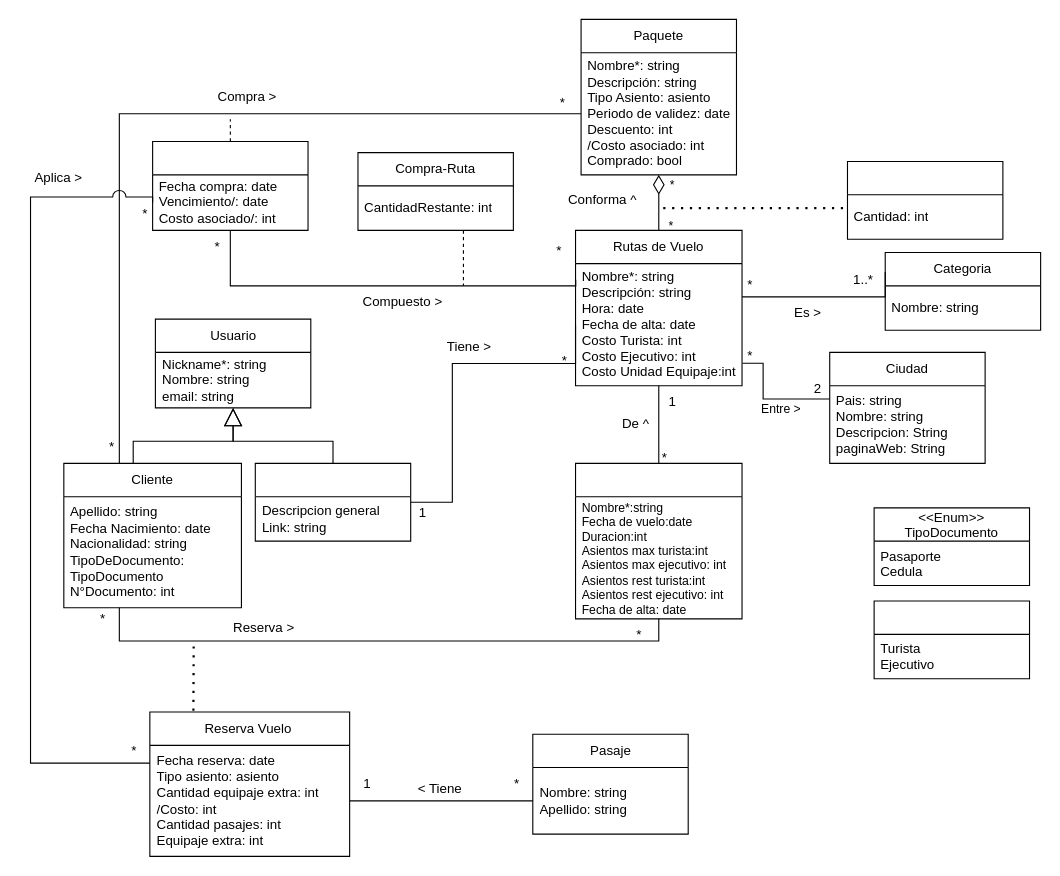
Some shapes in this 1060 by 876 pixel diagram are drawn without their labels. Here are the shapes that lost their labels. From the top down, the box of each, then its label:
(152, 140, 308, 230): Compra-Paquete
(846, 160, 1003, 239): Paquete-Ruta
(254, 462, 411, 541): Aerolinea
(574, 462, 742, 619): Vuelos
(873, 600, 1030, 679): <<Enum>> Asiento
